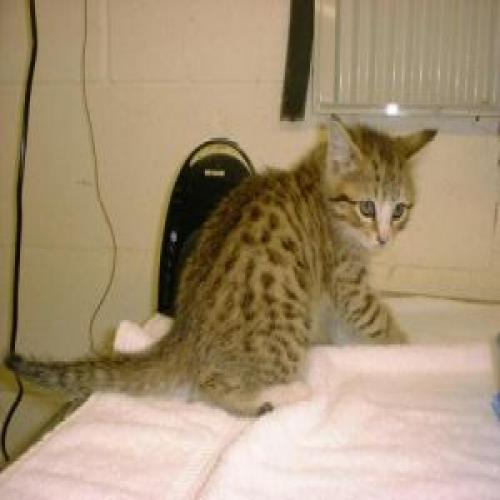cat-face: (316, 114, 430, 262)
